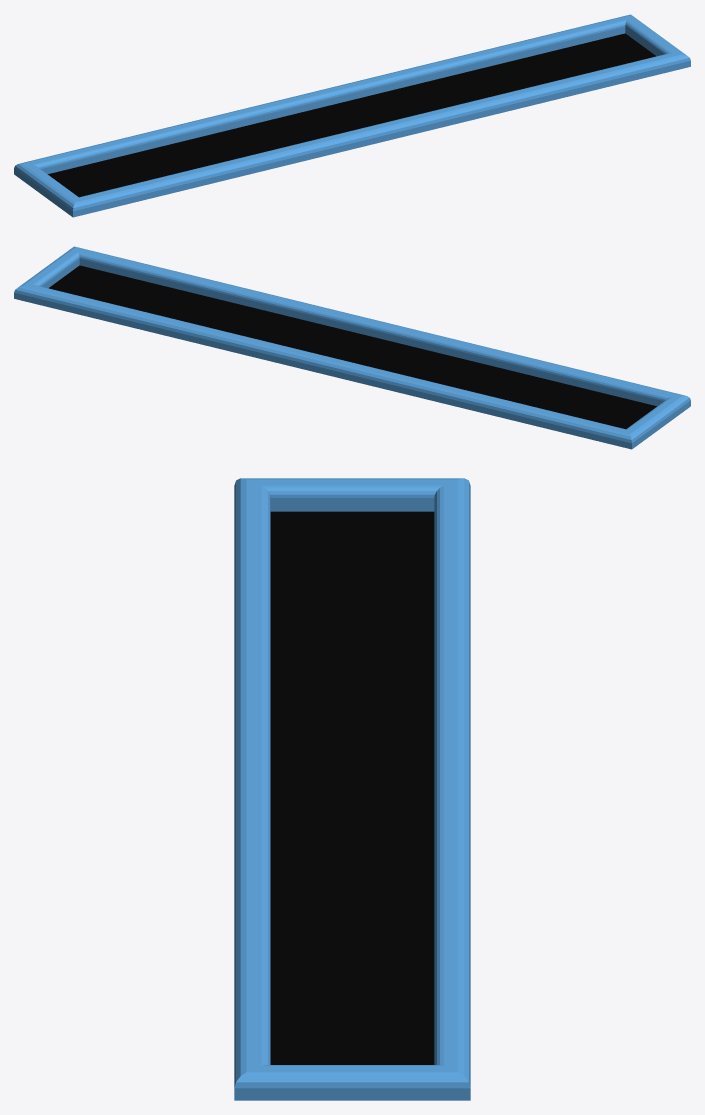
Rendered from Inventory Bin.fbx.
3 renders of one model, top to bottom at view 1: azimuth 30°, elevation 25°; view 2: azimuth 150°, elevation 25°; view 3: azimuth 270°, elevation 25°, orthographic. The views are drawn at different scales.
Parts seen in each view (by area): view 1: Bin; view 2: Bin; view 3: Bin.
Boxes of the visible parts, x1=… form: Bin: x1=14, y1=14, x2=690, y2=217; Bin: x1=14, y1=246, x2=690, y2=449; Bin: x1=234, y1=478, x2=470, y2=1100.
Size of the model in its own units: 1110 by 20 by 184.
